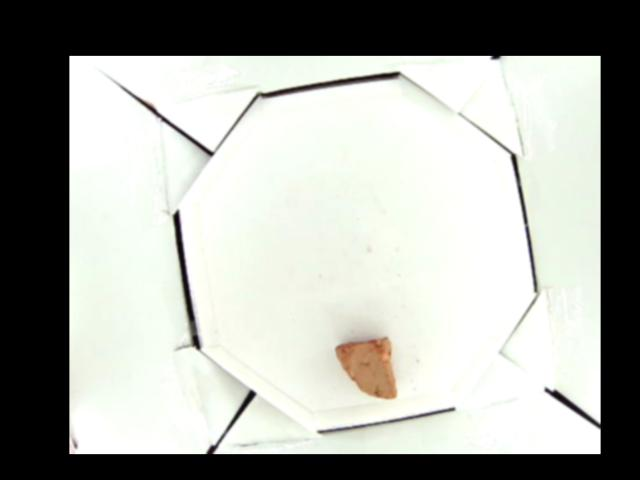Brisk: (334, 335, 396, 398)
